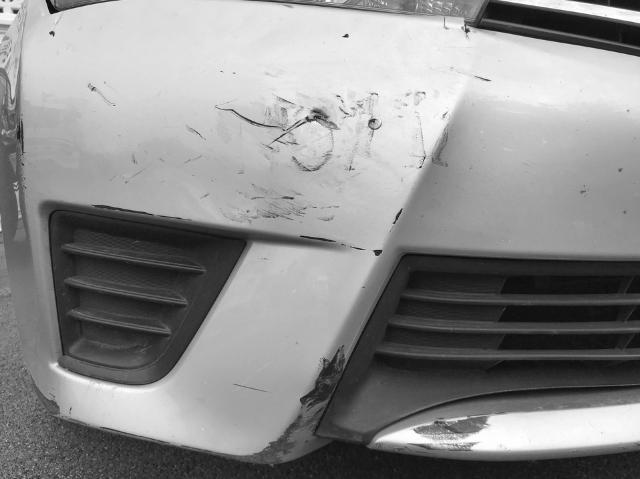Bumper: (65, 28, 508, 368)
